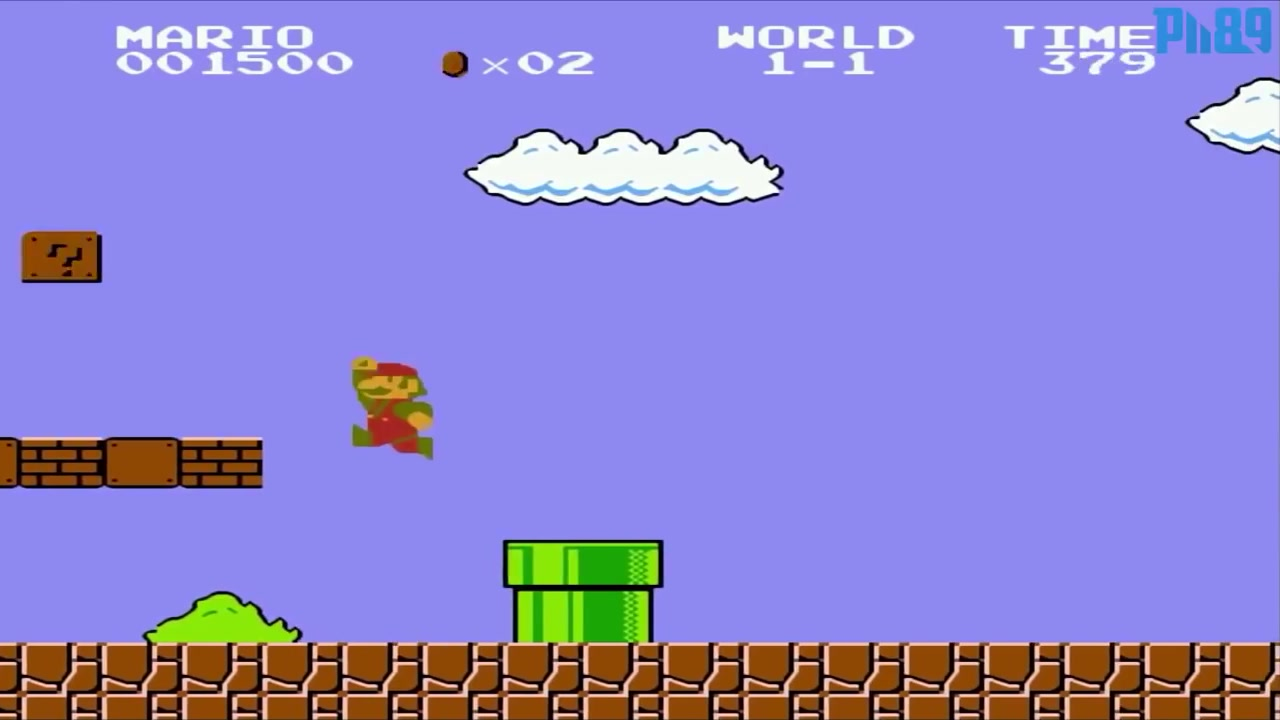mario: (343, 351, 455, 467)
